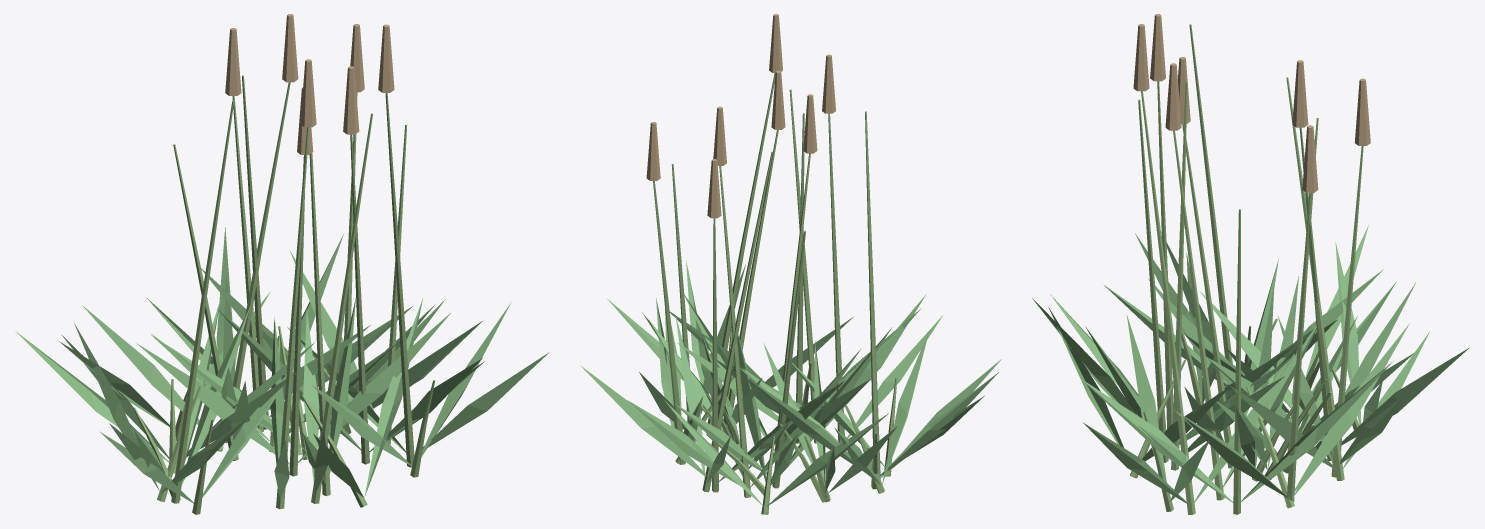
File: plant-reed-b.glb
The picture shows the model from 3 angles, left to right: view 1: azimuth 30°, elevation 25°; view 2: azimuth 150°, elevation 25°; view 3: azimuth 270°, elevation 25°; orthographic projection. The views are drawn at different scales.
Parts seen in each view (by area): view 1: plant-reed-b_full_stemGreen, plant-reed-b_cut_reedLeaf, plant-reed-b_full_reedLeaf, plant-reed-b_full_reedHead, plant-reed-b_cut_stemGreen; view 2: plant-reed-b_full_stemGreen, plant-reed-b_full_reedLeaf, plant-reed-b_cut_reedLeaf, plant-reed-b_full_reedHead, plant-reed-b_cut_stemGreen; view 3: plant-reed-b_full_stemGreen, plant-reed-b_full_reedLeaf, plant-reed-b_cut_reedLeaf, plant-reed-b_full_reedHead, plant-reed-b_cut_stemGreen.
Boxes of the visible parts, x1=… form: plant-reed-b_full_stemGreen: x1=171, y1=75, x2=414, y2=509; plant-reed-b_cut_reedLeaf: x1=15, y1=268, x2=511, y2=503; plant-reed-b_full_reedLeaf: x1=132, y1=227, x2=549, y2=498; plant-reed-b_full_reedHead: x1=225, y1=14, x2=394, y2=154; plant-reed-b_cut_stemGreen: x1=133, y1=326, x2=434, y2=514; plant-reed-b_full_stemGreen: x1=653, y1=73, x2=880, y2=497; plant-reed-b_full_reedLeaf: x1=580, y1=260, x2=1001, y2=487; plant-reed-b_cut_reedLeaf: x1=607, y1=297, x2=998, y2=506; plant-reed-b_full_reedHead: x1=646, y1=14, x2=835, y2=218; plant-reed-b_cut_stemGreen: x1=675, y1=326, x2=897, y2=514; plant-reed-b_full_stemGreen: x1=1138, y1=24, x2=1363, y2=514; plant-reed-b_full_reedLeaf: x1=1032, y1=233, x2=1469, y2=504; plant-reed-b_cut_reedLeaf: x1=1048, y1=225, x2=1415, y2=501; plant-reed-b_full_reedHead: x1=1133, y1=14, x2=1370, y2=192; plant-reed-b_cut_stemGreen: x1=1130, y1=318, x2=1359, y2=511.
Size of the model in its own units: 1.82 by 1.92 by 1.64.
